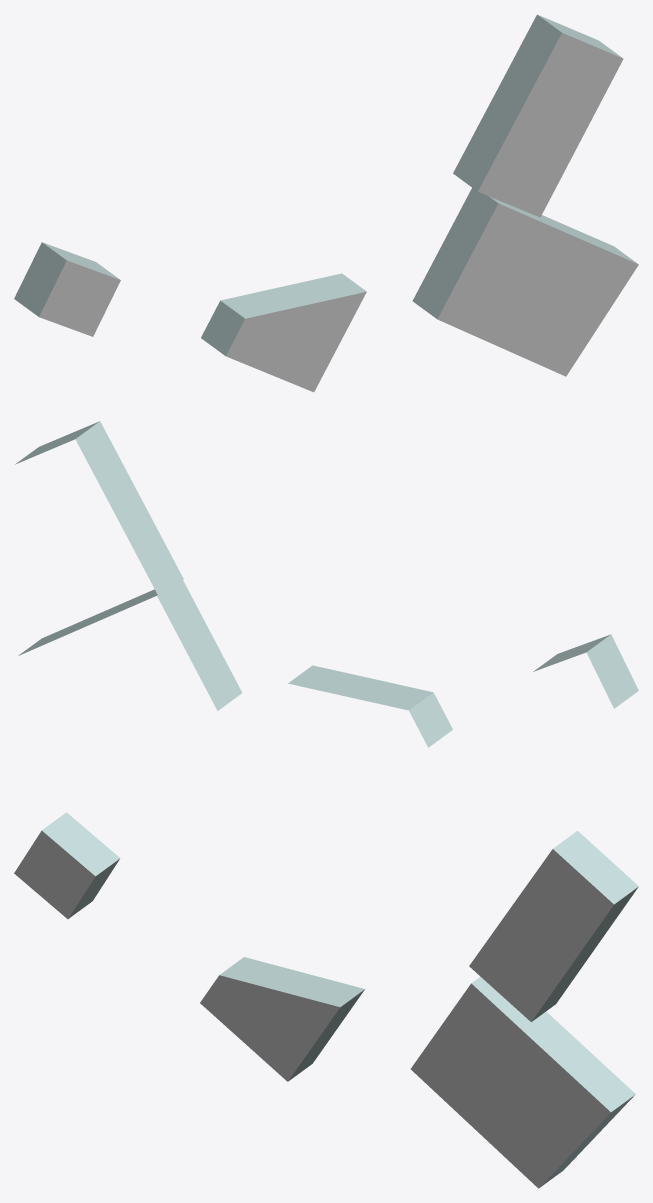
The picture shows the model from 3 angles, top to bottom: view 1: azimuth 30°, elevation 25°; view 2: azimuth 150°, elevation 25°; view 3: azimuth 330°, elevation 25°; orthographic projection.
Visible parts, largest first — view 1: 0_1_0_1_0_2_0_3_1; view 2: 0_1_0_1_0_2_0_3_1; view 3: 0_1_0_1_0_2_0_3_1.
Boxes of the visible parts, box(x1,y1,x2,y2) form: 0_1_0_1_0_2_0_3_1: box(14, 14, 638, 392); 0_1_0_1_0_2_0_3_1: box(15, 421, 638, 747); 0_1_0_1_0_2_0_3_1: box(14, 812, 638, 1188).
Bounding box in the file's own units: 41.58 × 22.26 × 4.1.
